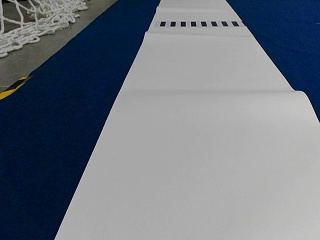crosswalk: (159, 20, 238, 26)
